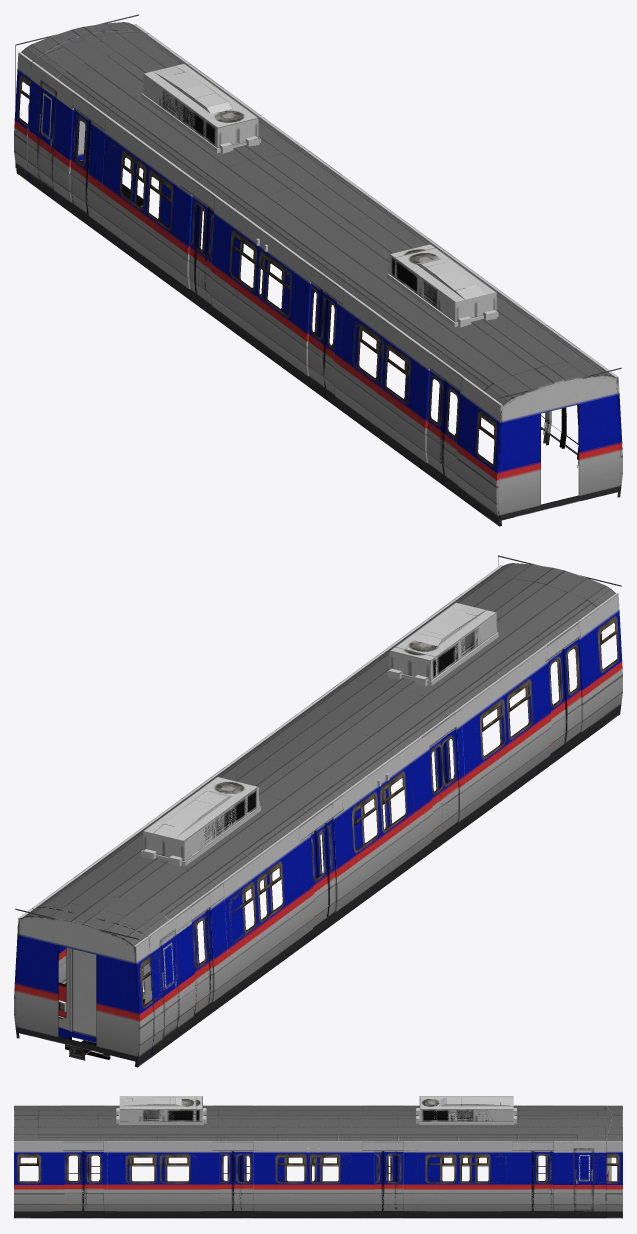
3 renders of one model, top to bottom at view 1: azimuth 30°, elevation 25°; view 2: azimuth 150°, elevation 25°; view 3: azimuth 270°, elevation 25°, orthographic. The views are drawn at different scales.
Visible parts, largest first — view 1: cab-shell-0, trailer-shell-5, cab-left-2, trailer-left-9, cab-left-4, trailer-left-7; view 2: cab-shell-0, trailer-shell-5, cab-left-2, trailer-left-9, cab-left-4; view 3: cab-shell-0, trailer-shell-5, cab-right-3, trailer-right-6, cab-right-1, trailer-right-8.
Part boxes in pixels (bbox=[...]): cab-shell-0: bbox=[27, 30, 622, 526]; trailer-shell-5: bbox=[14, 14, 617, 525]; cab-left-2: bbox=[70, 109, 446, 474]; trailer-left-9: bbox=[72, 110, 459, 472]; cab-left-4: bbox=[86, 120, 459, 484]; trailer-left-7: bbox=[70, 109, 444, 466]; cab-shell-0: bbox=[32, 555, 622, 1060]; trailer-shell-5: bbox=[14, 563, 622, 1067]; cab-left-2: bbox=[192, 649, 566, 1012]; trailer-left-9: bbox=[194, 647, 580, 1013]; cab-left-4: bbox=[207, 638, 581, 1002]; cab-shell-0: bbox=[14, 1096, 611, 1218]; trailer-shell-5: bbox=[14, 1096, 622, 1218]; cab-right-3: bbox=[83, 1151, 553, 1210]; trailer-right-6: bbox=[64, 1151, 551, 1210]; cab-right-1: bbox=[64, 1151, 532, 1210]; trailer-right-8: bbox=[86, 1151, 553, 1210].
Size of the model in its own units: 2.97 by 3.6 by 19.
1 material, 1 textured.
